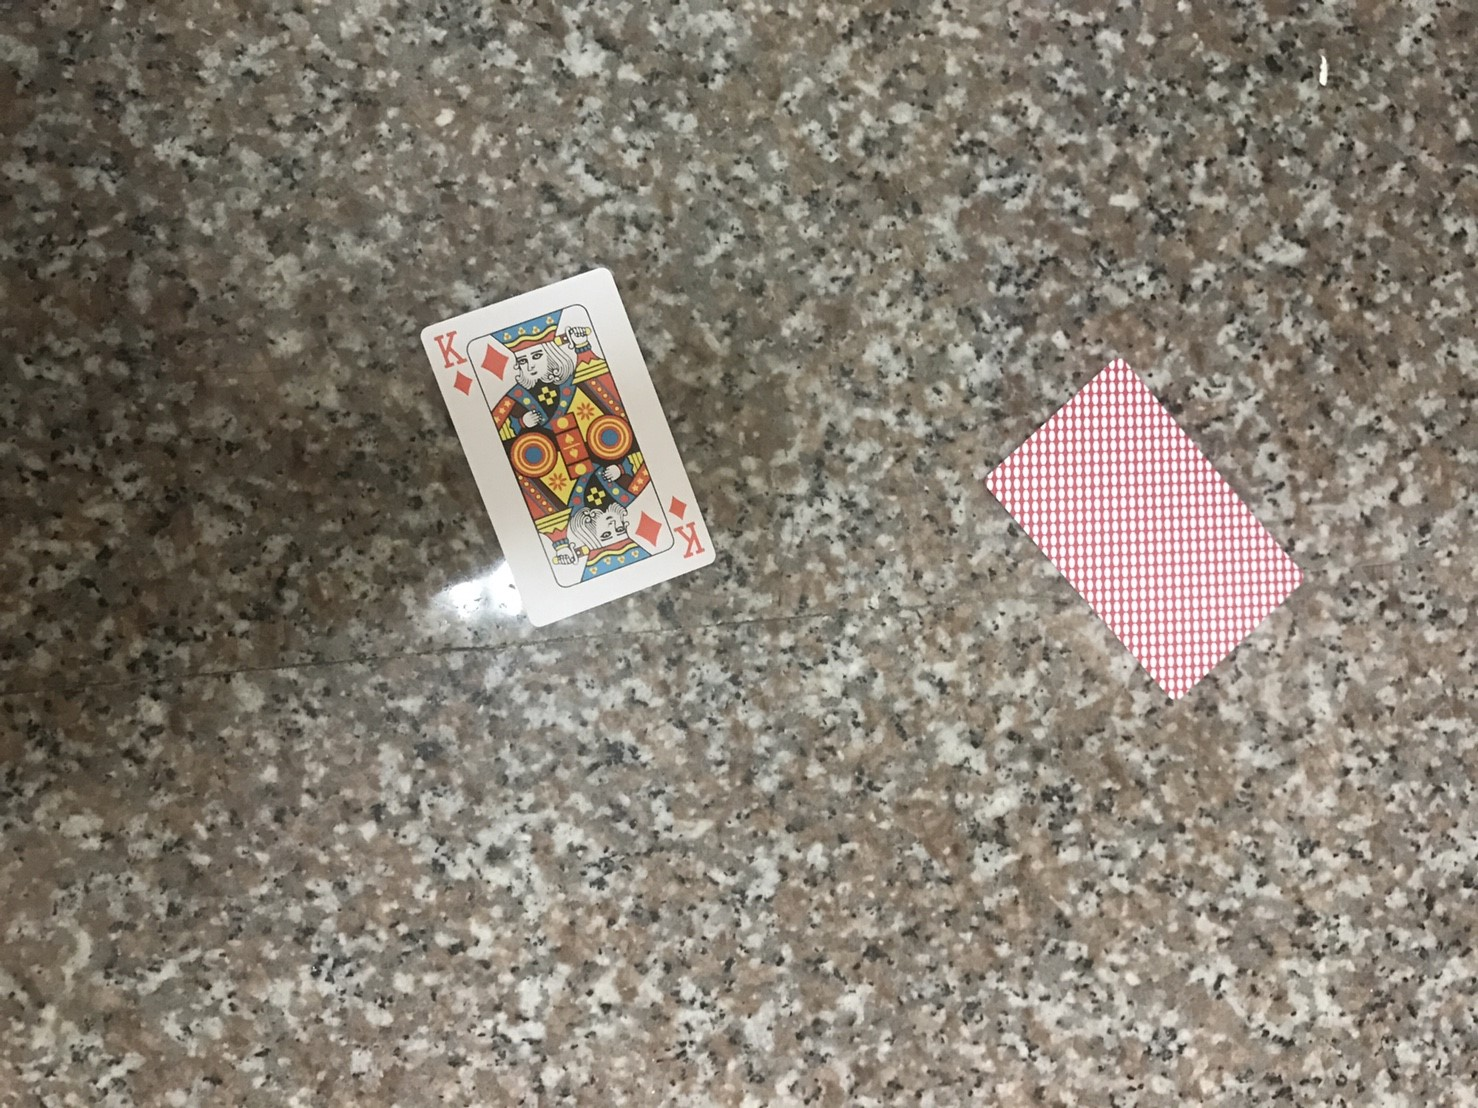diamonds: (631, 509, 667, 551), (660, 486, 692, 523), (478, 345, 506, 377), (448, 372, 474, 397)
